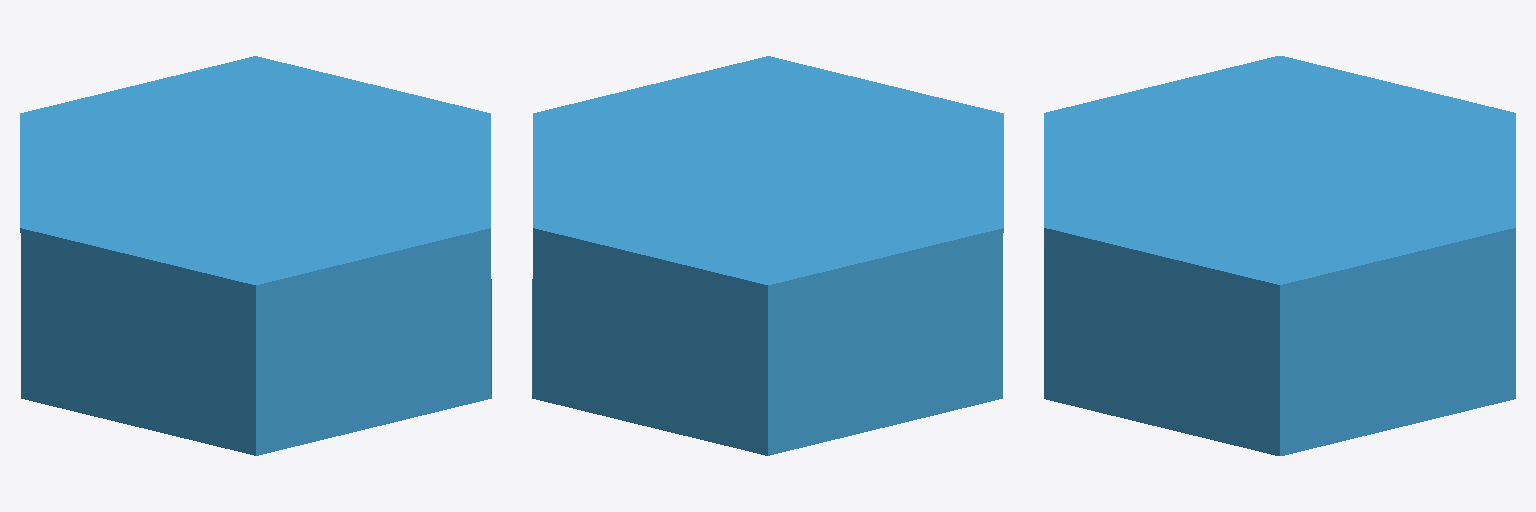
URDF robot description (partnet_f0a5f6d2cf8fcb72c12d8e00a78db6e2):
<?xml version="1.0" ?>
<robot name="partnet_f0a5f6d2cf8fcb72c12d8e00a78db6e2">
	<link name="world"/>
	<joint name="joint_0" type="floating">
		<origin rpy="1.570796326794897 0 -1.570796326794897" xyz="0 0 0"/>
		<child link="link_0"/>
		<parent link="world"/>
	</joint>

	<link name="link_0">
		<inertial>
            <mass value="0.001" />
            <origin xyz="0 0 0" rpy="0 0 0" />
            <inertia ixx="0.001" ixy="0" ixz="0" iyy="0.001" iyz="0" izz="0.001" />
        </inertial>
		<visual name="lid-7">
			<origin xyz="-0.007005959241653967 0 -0.007542109902568375"/>
			<geometry>
				<!-- <mesh filename="textured_objs/original-7.obj" scale="0.15 0.15 0.15"/> -->
				<mesh filename="textured_objs/cap6.obj" scale="0.15 0.15 0.15"/>
			</geometry>
		</visual>
		<collision>
			<origin xyz="-0.007005959241653967 0 -0.007542109902568375"/>
			<geometry>
				<mesh filename="textured_objs/original-7.obj" scale="0.15 0.15 0.15"/>
			</geometry>
		</collision>
	</link>
	
</robot>

--- Render facts (derived) ---
Views: 3 orthographic renders of the robot side by side, from view 1: azimuth 30°, elevation 25°; view 2: azimuth 150°, elevation 25°; view 3: azimuth 270°, elevation 25°.
Model partnet_f0a5f6d2cf8fcb72c12d8e00a78db6e2 with 2 links and 1 joints (1 floating), rooted at world, posed all joints at 0.
Links seen in each view (by area): view 1: link_0; view 2: link_0; view 3: link_0.
Boxes of the visible links, left/top/right/bottom form: link_0: left=20, top=56, right=491, bottom=455; link_0: left=532, top=56, right=1003, bottom=455; link_0: left=1044, top=56, right=1515, bottom=455.
Size in the robot's own frame: 0.0265 by 0.0229 by 0.0092 metres.
1 mesh visuals loaded from 1 distinct referenced files (1 OBJ).